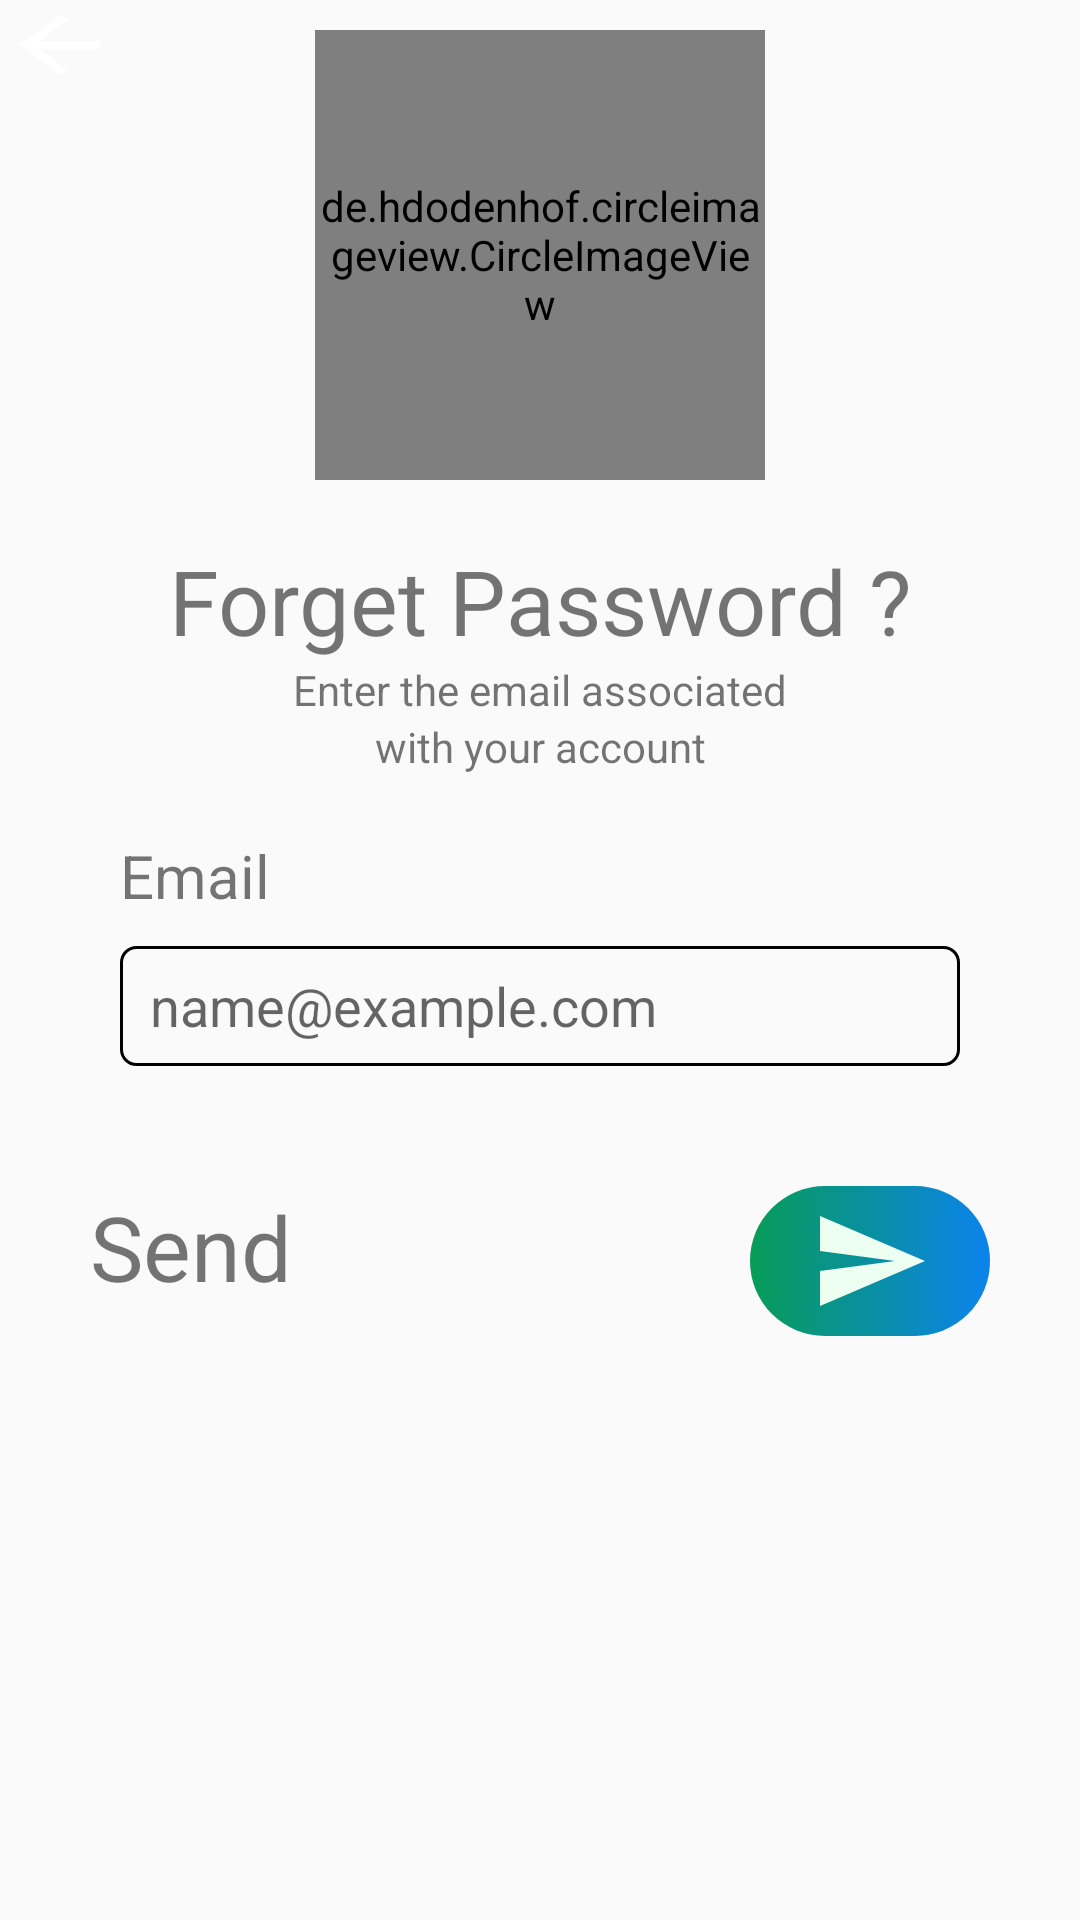

Point at icon controls on the screen. Image size 1080*1920, points as (x,y).
send: (870,1261)
